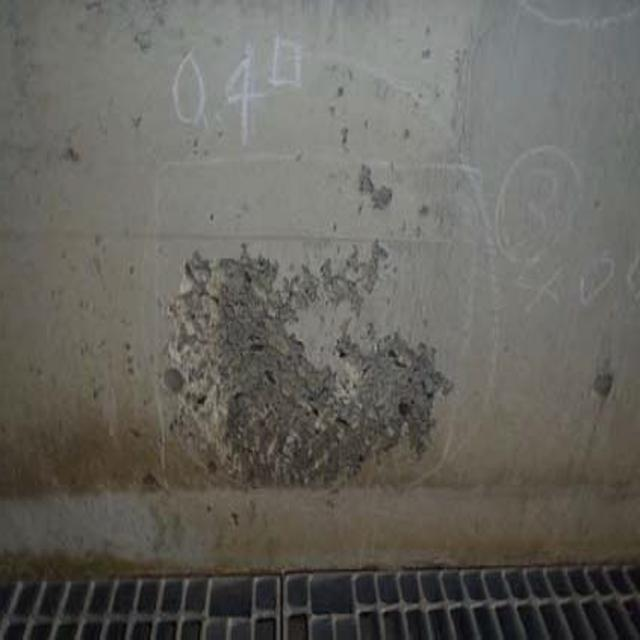spalling: (142, 237, 458, 496)
